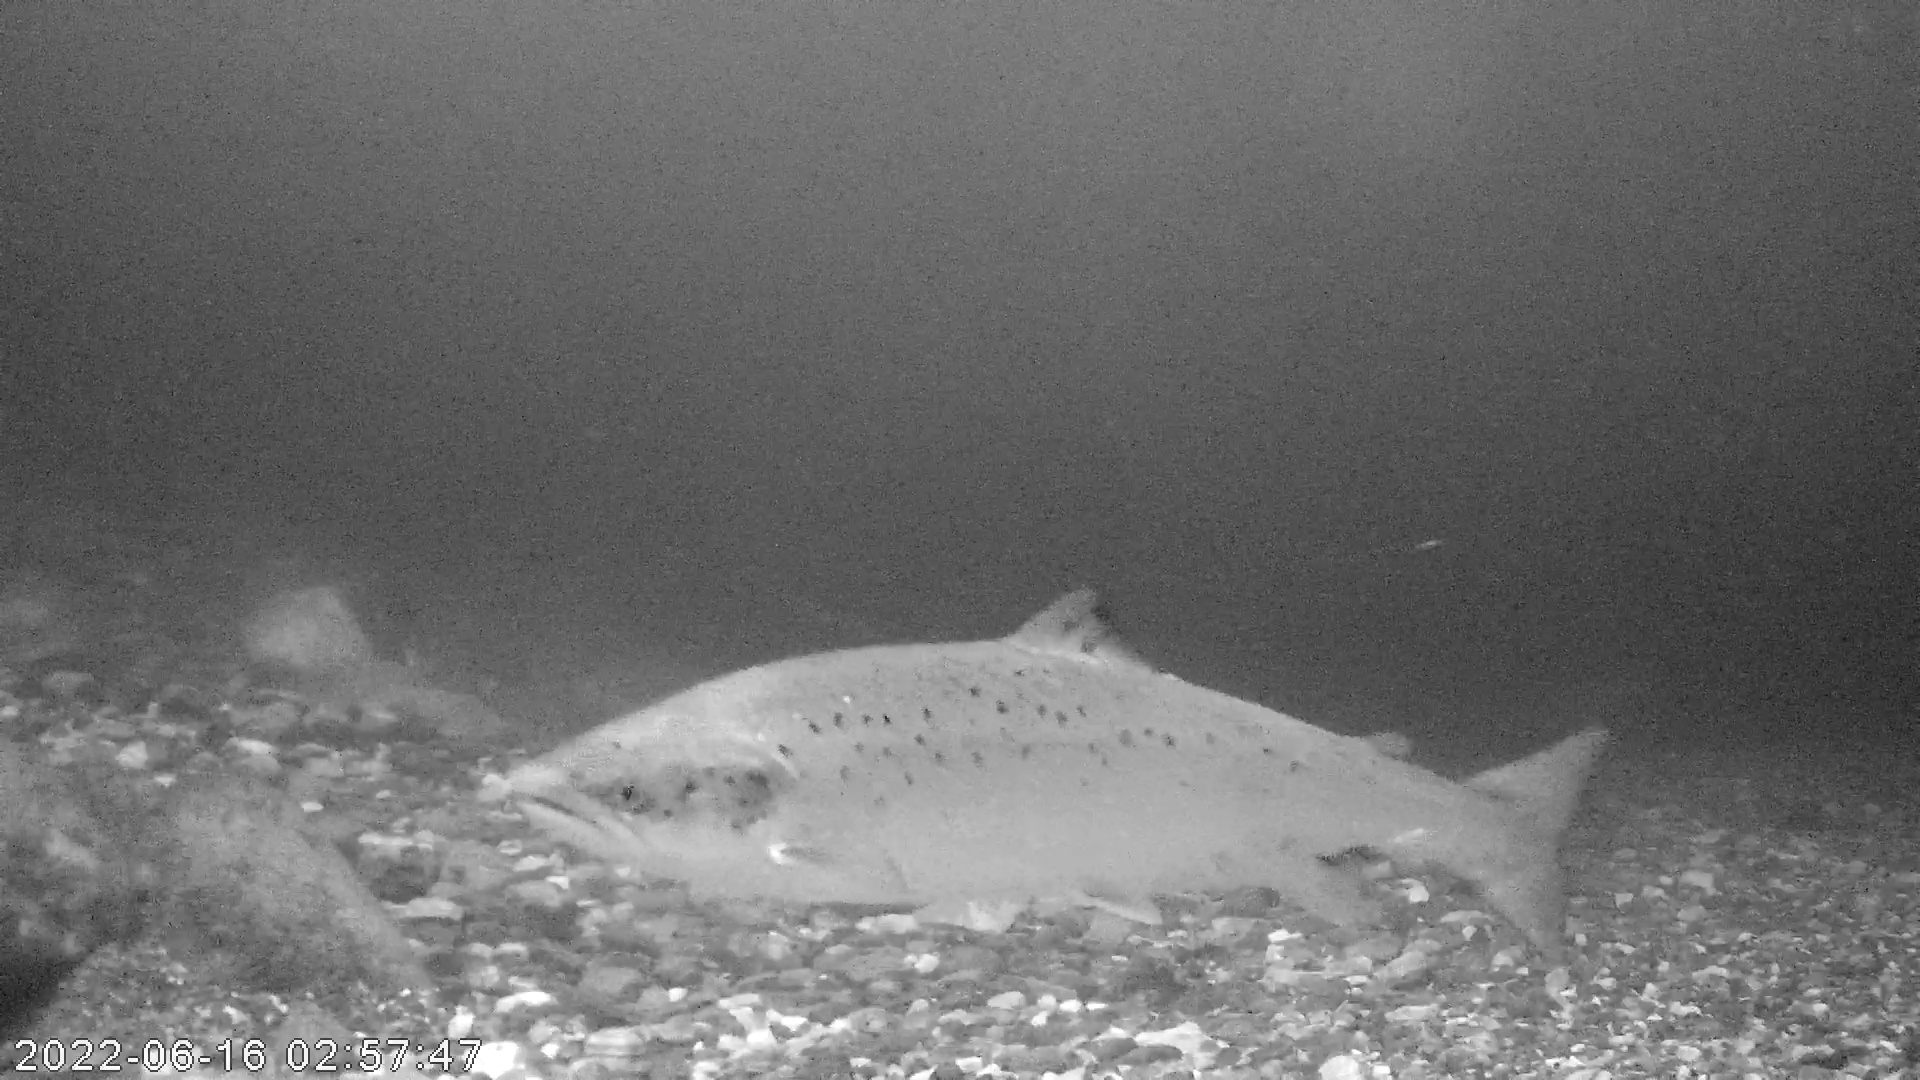salmon: (505, 582, 1611, 967)
